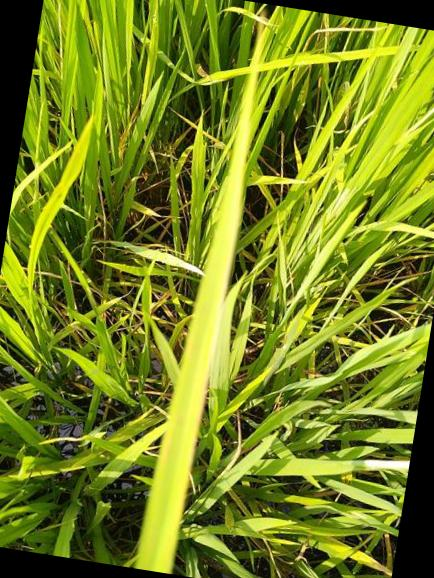Leaf Blight: (133, 6, 282, 574)
